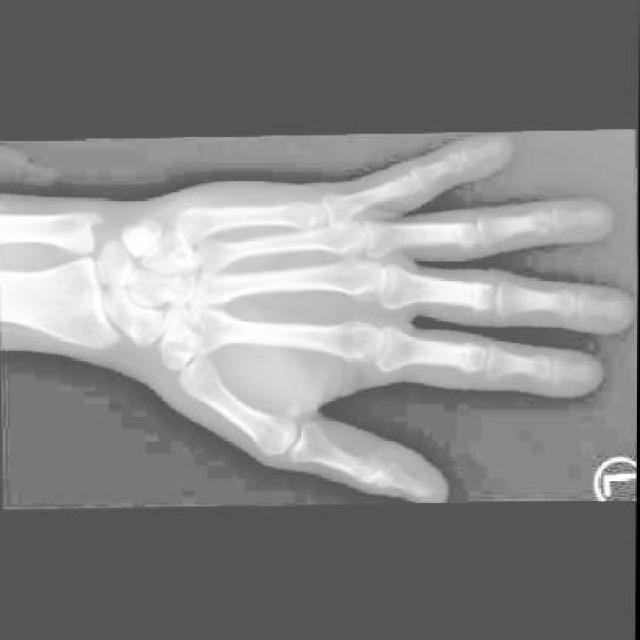bone: (155, 214, 185, 251)
